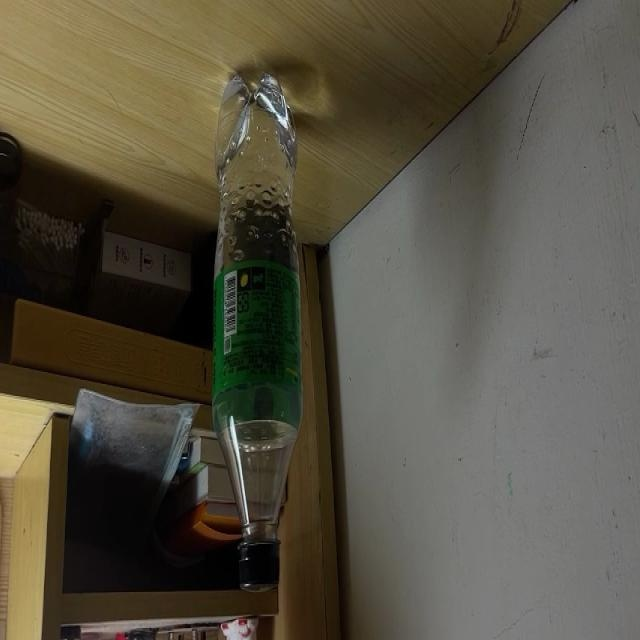Sprite: (212, 75, 303, 594)
